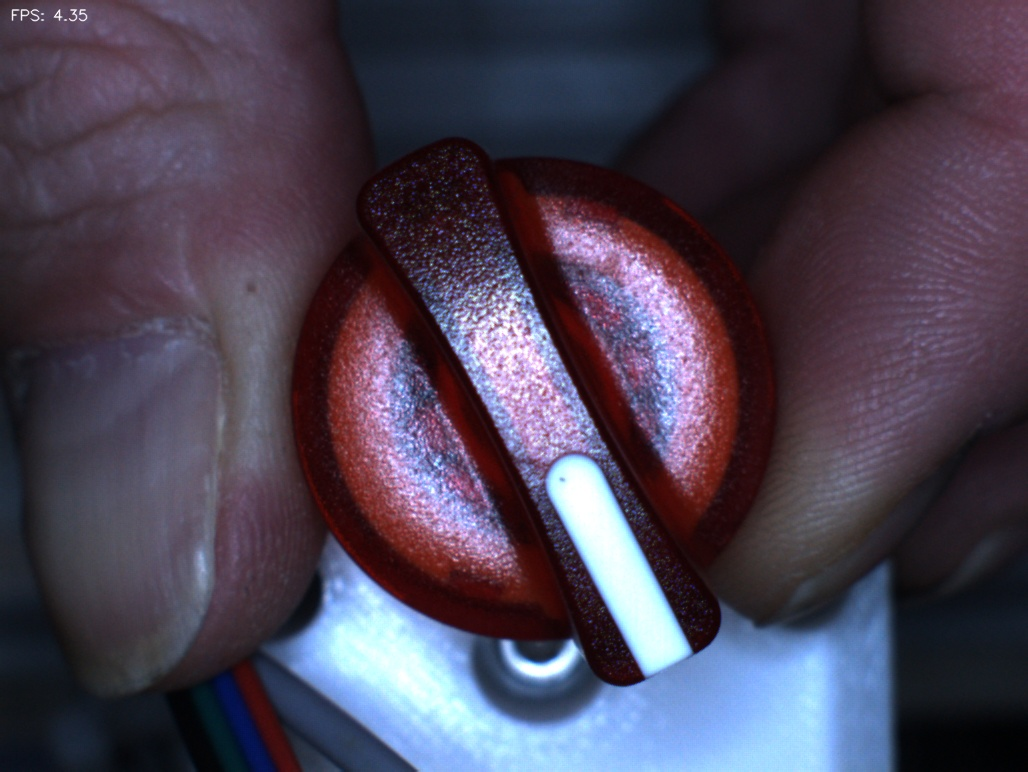PointNoir: (531, 453, 586, 503)
